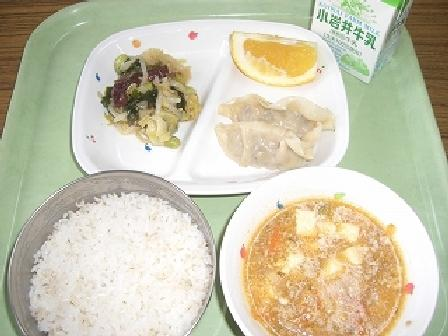Citrus: (228, 18, 328, 91)
Milk: (317, 0, 422, 67)
Rice: (10, 167, 209, 335)
Salad: (83, 31, 199, 150)
Spicy chili-flavored tofu: (227, 170, 429, 335)
tushpara-wo-soup: (217, 82, 329, 167)
